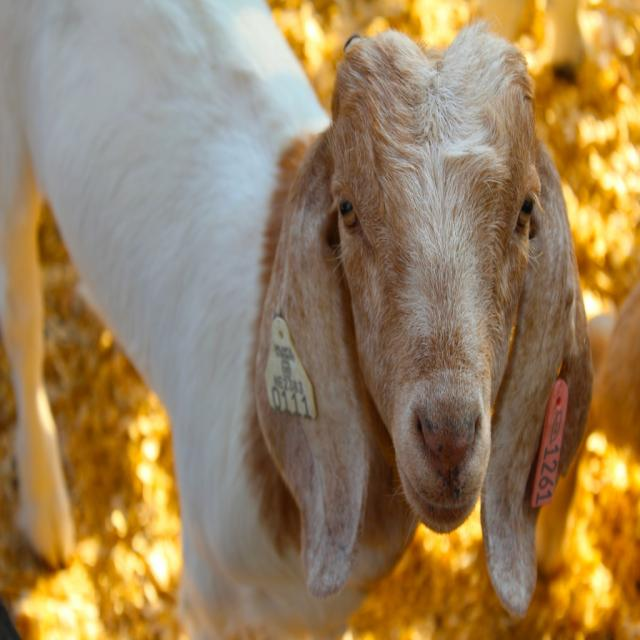Goat: (0, 0, 594, 639)
